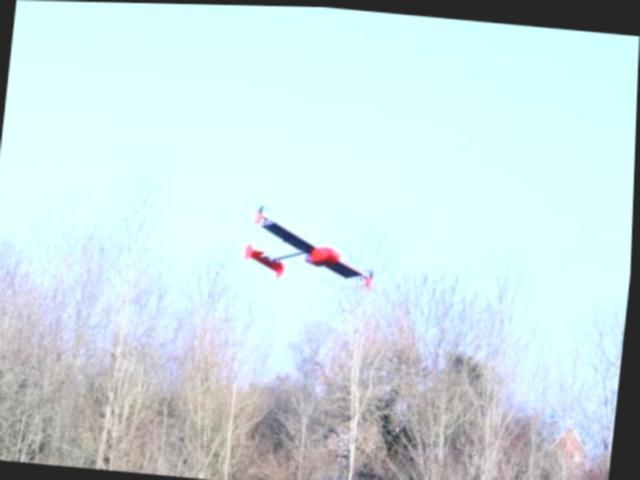uav: (230, 192, 398, 304)
